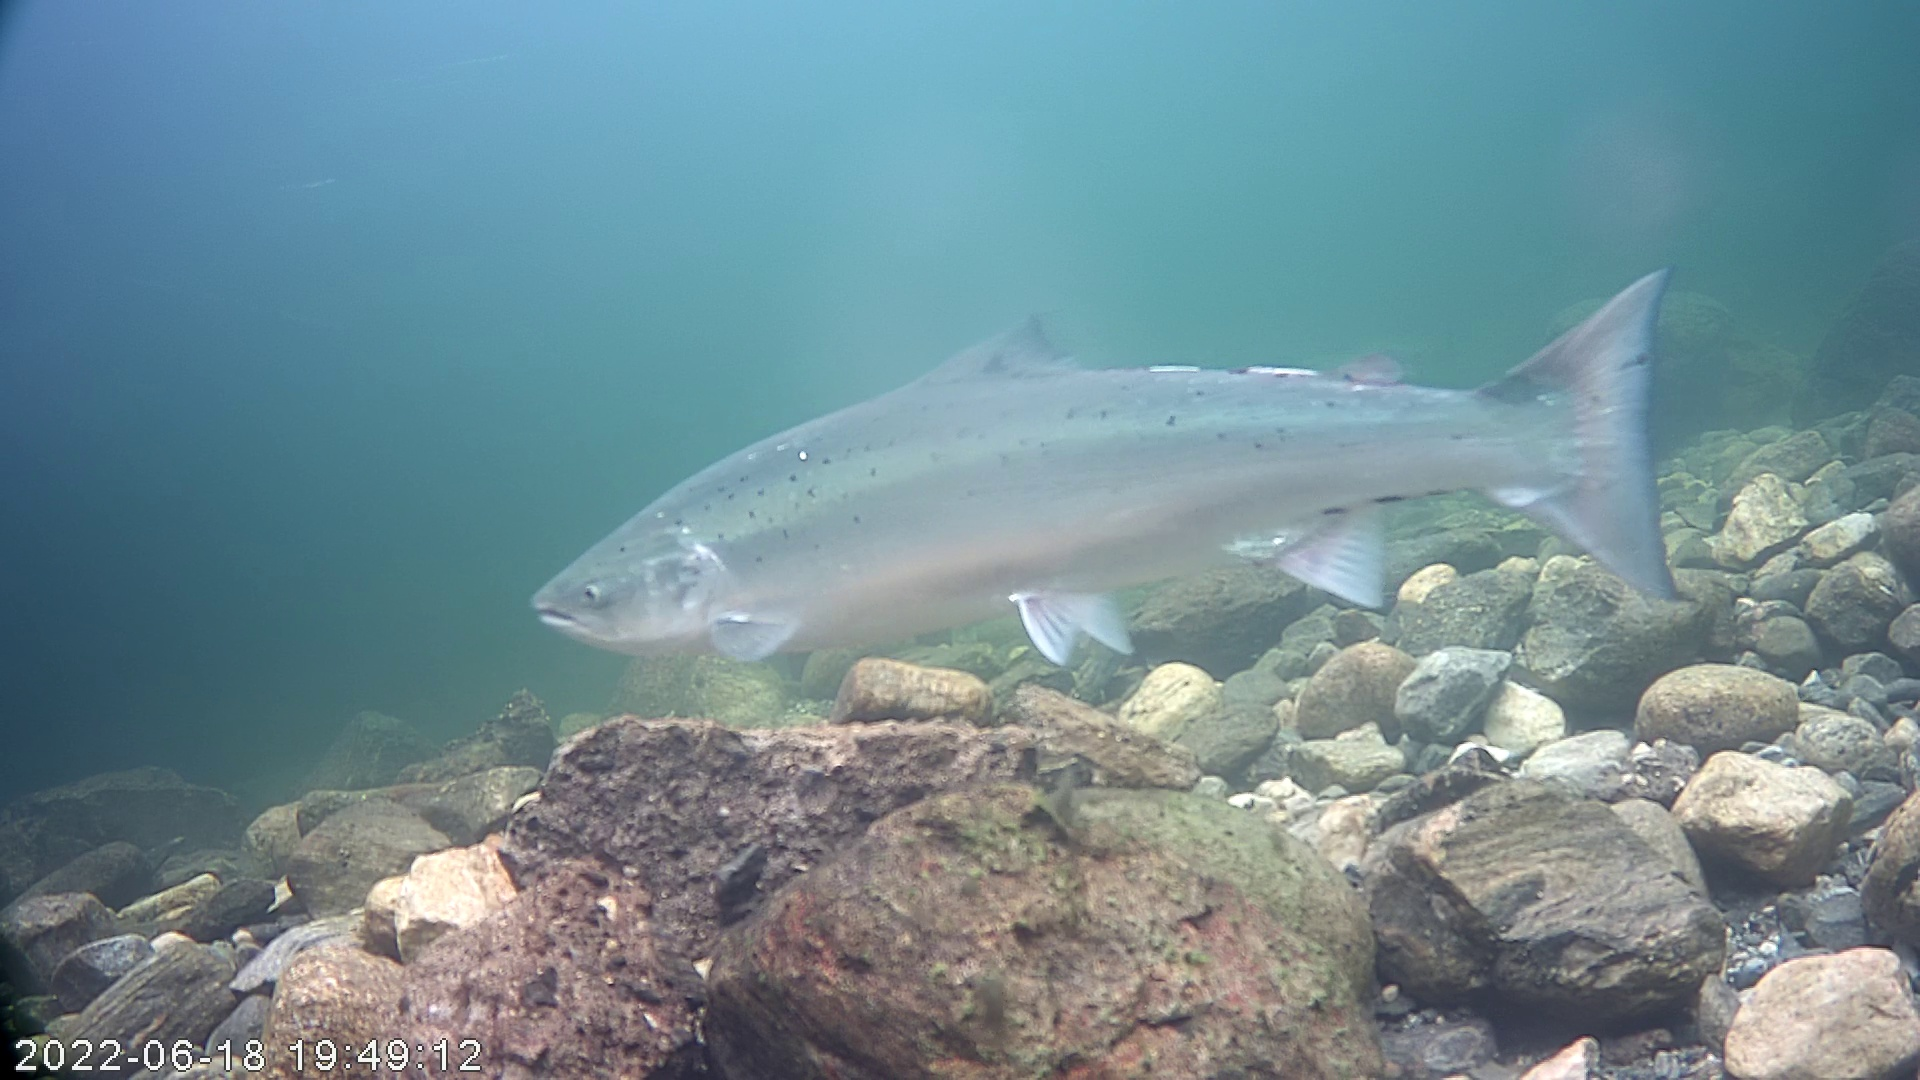salmon: (527, 262, 1687, 669)
